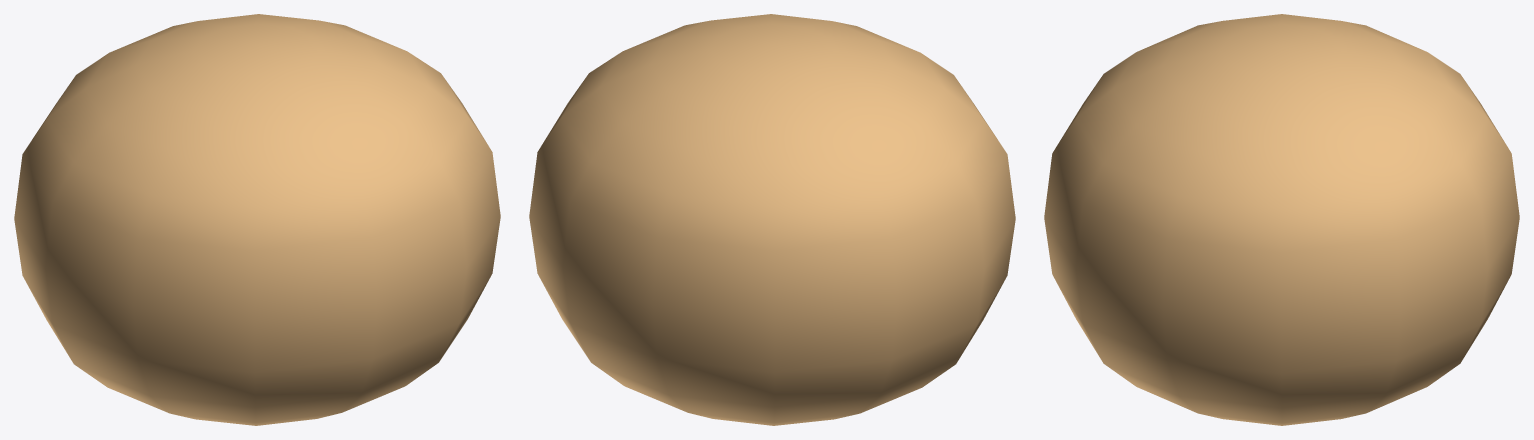
Rendered from MochiWhite.fbx.
3 renders of one model, left to right at view 1: azimuth 30°, elevation 25°; view 2: azimuth 150°, elevation 25°; view 3: azimuth 270°, elevation 25°, orthographic.
Parts seen in each view (by area): view 1: sm_mochi_brown; view 2: sm_mochi_brown; view 3: sm_mochi_brown.
Part boxes in pixels (x1,y1,x2,y2): sm_mochi_brown: (14, 14, 500, 425); sm_mochi_brown: (529, 14, 1015, 425); sm_mochi_brown: (1044, 14, 1519, 425).
Bounding box in the file's own units: 27.57 × 21.76 × 26.91.
